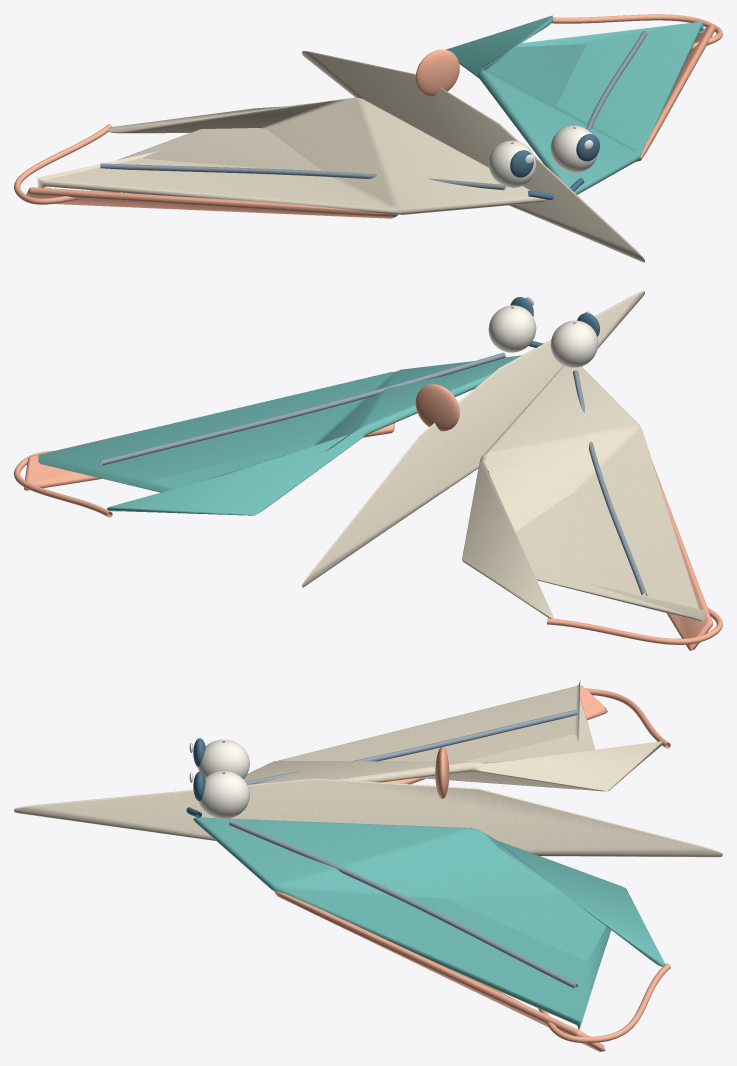
The model's file is E02-R60-PhotoPaper-WingFlex-STUDY.glb.
The picture shows the model from 3 angles, top to bottom: view 1: azimuth 30°, elevation 25°; view 2: azimuth 150°, elevation 25°; view 3: azimuth 270°, elevation 25°; orthographic projection. The views are drawn at different scales.
Parts seen in each view (by area): view 1: E02 left folded outer wing, E02 right folded outer wing, E02 double ridge fuselage, E02 -1 wing return lip, E02 -1 embossed crease 1, E02 spring ring logo, E02 1 eyeball, E02 -1 eyeball, E02 1 wing return lip, E02 1 wing-tip piping, E02 -1 wing-tip piping, E02 1 embossed crease 1 (+2 smaller); view 2: E02 left folded outer wing, E02 right folded outer wing, E02 double ridge fuselage, E02 1 embossed crease 1, E02 1 eyeball, E02 -1 eyeball, E02 spring ring logo, E02 1 wing return lip, E02 -1 wing return lip, E02 -1 wing-tip piping, E02 -1 embossed crease 1, E02 1 wing-tip piping; view 3: E02 right folded outer wing, E02 double ridge fuselage, E02 left folded outer wing, E02 1 wing return lip, E02 1 embossed crease 1, E02 1 eyeball, E02 -1 embossed crease 1, E02 -1 eyeball, E02 1 wing-tip piping, E02 -1 wing-tip piping, E02 -1 wing return lip, E02 spring ring logo.
Part boxes in pixels (x1=…): E02 left folded outer wing: x1=36, y1=97, x2=545, y2=214; E02 right folded outer wing: x1=446, y1=15, x2=704, y2=194; E02 double ridge fuselage: x1=302, y1=51, x2=644, y2=262; E02 -1 wing return lip: x1=26, y1=187, x2=397, y2=218; E02 -1 embossed crease 1: x1=100, y1=163, x2=505, y2=190; E02 spring ring logo: x1=415, y1=49, x2=459, y2=96; E02 1 eyeball: x1=550, y1=125, x2=597, y2=172; E02 -1 eyeball: x1=488, y1=140, x2=536, y2=187; E02 1 wing return lip: x1=636, y1=25, x2=715, y2=161; E02 1 wing-tip piping: x1=551, y1=14, x2=722, y2=50; E02 -1 wing-tip piping: x1=14, y1=124, x2=118, y2=204; E02 1 embossed crease 1: x1=586, y1=31, x2=647, y2=131; E02 left folded outer wing: x1=462, y1=365, x2=704, y2=621; E02 right folded outer wing: x1=38, y1=355, x2=521, y2=515; E02 double ridge fuselage: x1=302, y1=291, x2=644, y2=587; E02 1 embossed crease 1: x1=100, y1=352, x2=505, y2=465; E02 1 eyeball: x1=488, y1=305, x2=536, y2=352; E02 -1 eyeball: x1=550, y1=320, x2=598, y2=367; E02 spring ring logo: x1=415, y1=384, x2=459, y2=431; E02 1 wing return lip: x1=24, y1=423, x2=394, y2=490; E02 -1 wing return lip: x1=653, y1=464, x2=712, y2=650; E02 -1 wing-tip piping: x1=547, y1=607, x2=722, y2=644; E02 -1 embossed crease 1: x1=573, y1=370, x2=647, y2=595; E02 1 wing-tip piping: x1=14, y1=450, x2=112, y2=517; E02 right folded outer wing: x1=193, y1=817, x2=665, y2=1029; E02 double ridge fuselage: x1=14, y1=778, x2=722, y2=857; E02 left folded outer wing: x1=243, y1=679, x2=662, y2=791; E02 1 wing return lip: x1=274, y1=890, x2=605, y2=1051; E02 1 embossed crease 1: x1=229, y1=820, x2=577, y2=988; E02 1 eyeball: x1=198, y1=771, x2=249, y2=818; E02 -1 embossed crease 1: x1=245, y1=710, x2=577, y2=784; E02 -1 eyeball: x1=198, y1=739, x2=249, y2=778; E02 1 wing-tip piping: x1=538, y1=963, x2=670, y2=1042; E02 -1 wing-tip piping: x1=585, y1=688, x2=670, y2=748; E02 -1 wing return lip: x1=381, y1=685, x2=607, y2=784; E02 spring ring logo: x1=435, y1=747, x2=449, y2=798.
Size of the model in its own units: 2.36 by 0.4201 by 2.01.
7 materials, 2 textured.
